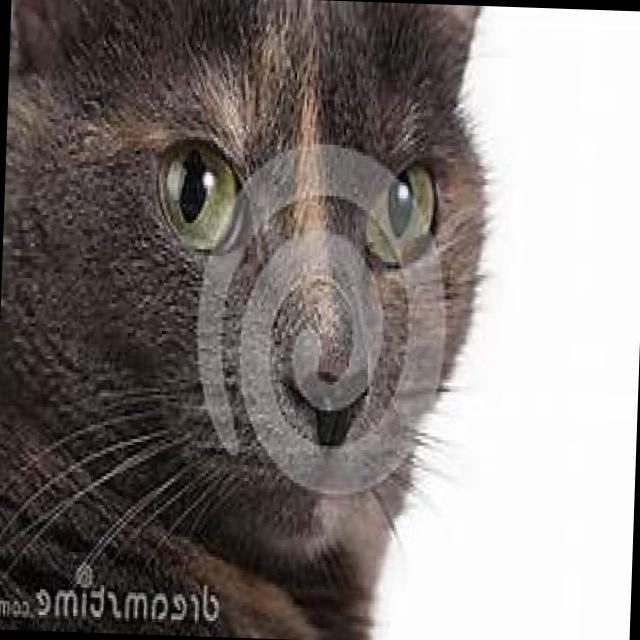animal: (0, 0, 501, 640)
